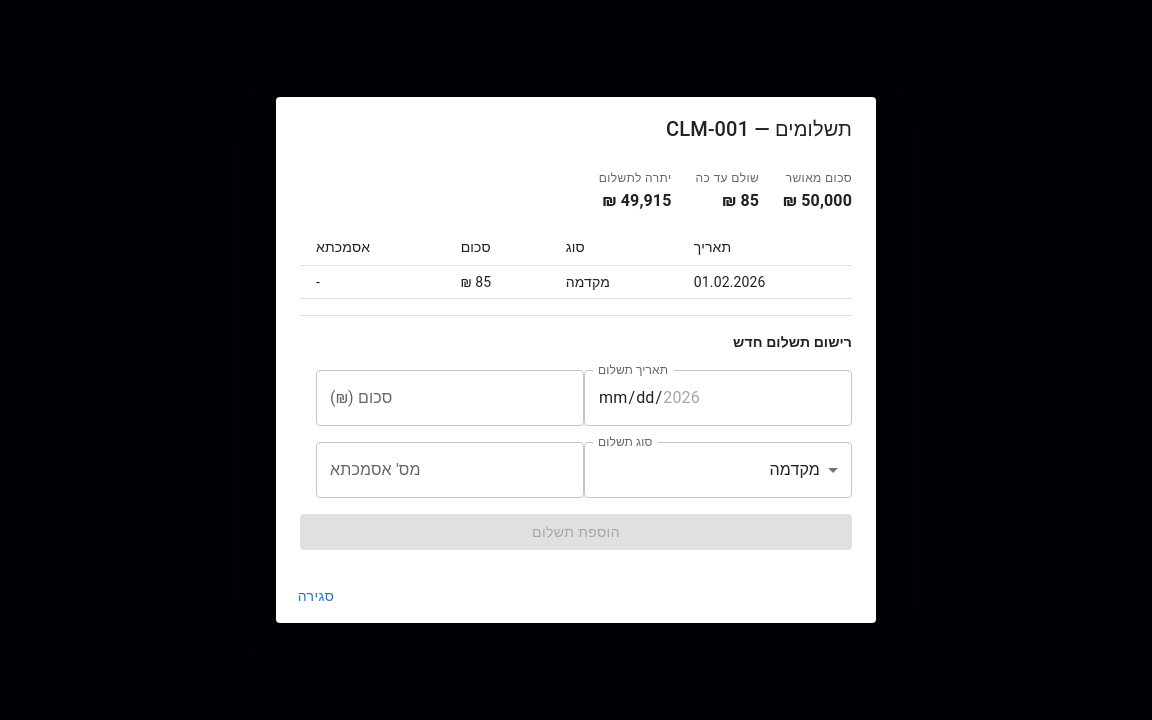
Test case: ClaimPaymentsDialog — payment rules › shows the backend's reason when the payment is refused
The width and height of the screenshot is (1152, 720).
Type "2026-02-02" into the date field labelled "תאריך תשלום" at (718, 398), box [584,370,852,426]
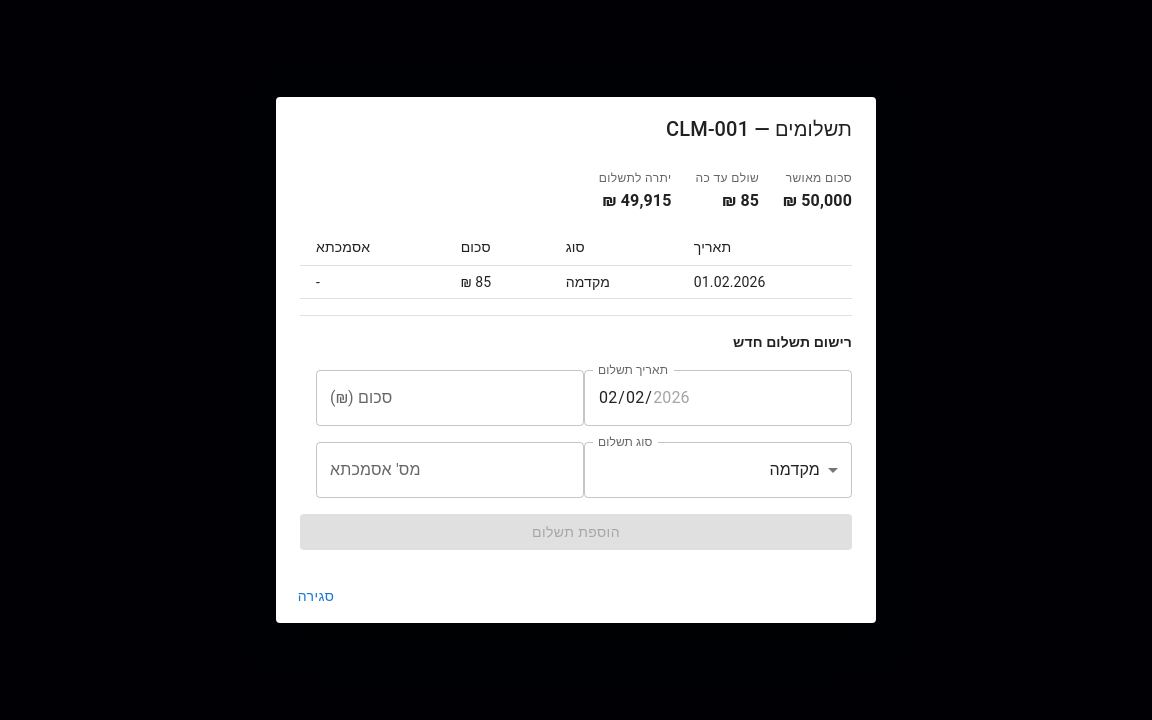
Type "100" into the number field labelled "סכום (₪)" at (450, 398), box [316,370,584,426]
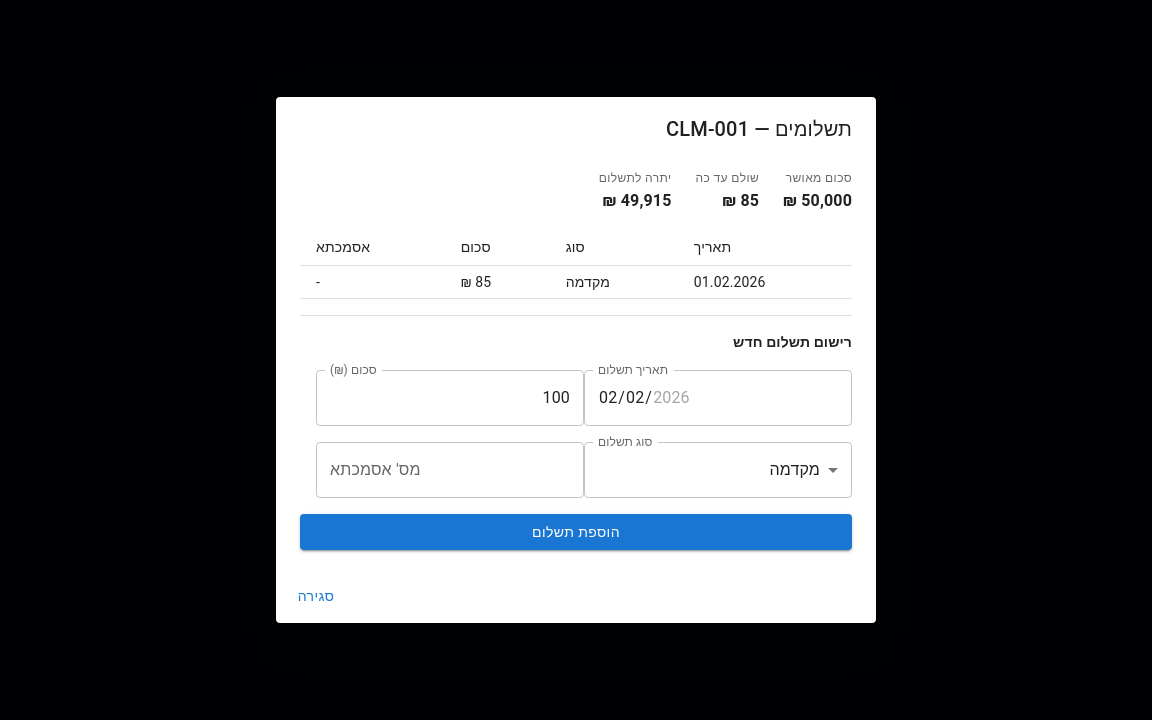
Click the button "הוספת תשלום" at (576, 532), box [300,514,852,550]
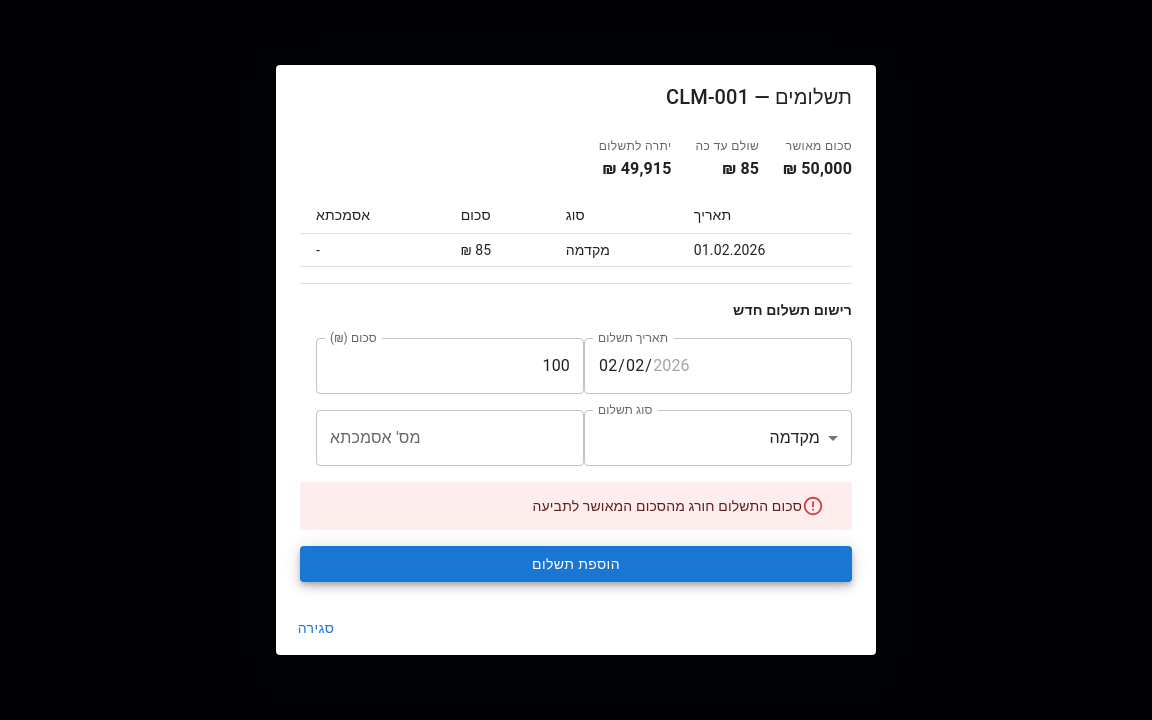
Check: the text "סכום התשלום חורג מהסכום המאושר לתביעה" is shown, box [532,498,802,514]
